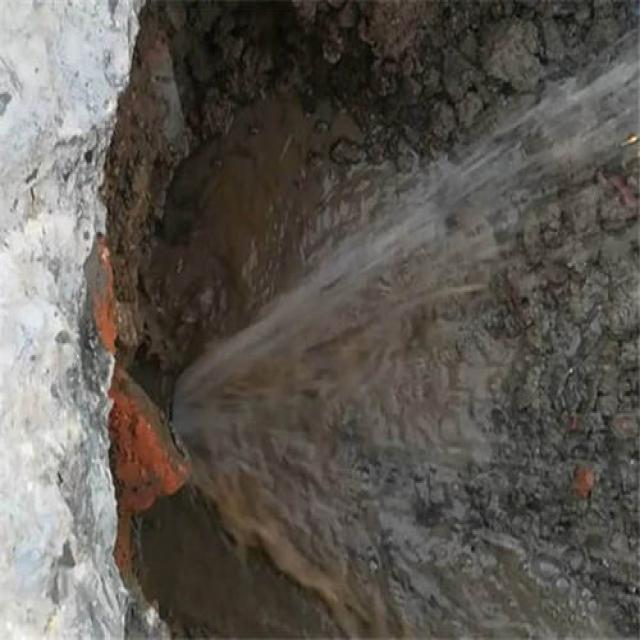leak: (172, 33, 640, 636)
